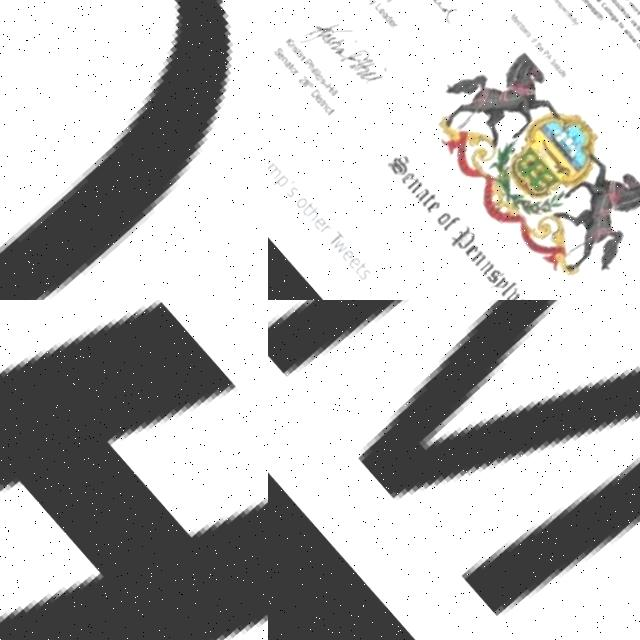0: (0, 0, 268, 300)
2: (295, 76, 306, 87)
8: (299, 80, 311, 91)
A: (410, 188, 429, 208), (378, 13, 390, 23), (281, 61, 291, 71), (589, 13, 598, 23), (620, 18, 629, 27), (543, 58, 552, 67), (555, 73, 562, 80), (592, 2, 600, 8), (620, 34, 627, 40)
B: (517, 28, 526, 37), (605, 0, 614, 8)
C: (598, 6, 607, 15), (322, 107, 330, 116), (561, 14, 569, 22), (614, 11, 621, 17)
D: (307, 90, 318, 101), (382, 17, 392, 27), (631, 47, 640, 56), (383, 0, 394, 6)
E: (396, 172, 415, 190), (337, 250, 355, 268), (423, 203, 440, 220), (460, 247, 477, 264), (307, 217, 324, 234), (344, 258, 360, 274), (274, 53, 284, 63), (385, 21, 394, 31), (375, 10, 384, 19), (606, 16, 614, 25), (551, 2, 559, 11), (611, 23, 619, 31), (587, 11, 595, 19), (559, 11, 567, 19), (559, 77, 567, 85), (519, 31, 527, 39), (550, 66, 558, 74), (511, 22, 519, 30), (536, 51, 544, 59), (633, 16, 640, 23), (635, 35, 640, 44), (637, 53, 640, 62)
F: (438, 217, 459, 237), (530, 42, 538, 50), (565, 17, 573, 24), (617, 0, 625, 4)
G: (607, 19, 616, 29)
H: (0, 300, 268, 640), (302, 207, 321, 225), (321, 84, 333, 96), (305, 64, 315, 74), (533, 47, 542, 56), (306, 84, 315, 93), (595, 20, 604, 28), (634, 32, 640, 38)
I: (312, 71, 322, 81), (308, 66, 318, 76), (288, 44, 299, 53), (294, 51, 304, 60), (321, 104, 330, 112), (313, 94, 321, 102), (327, 89, 335, 96), (627, 24, 633, 30), (363, 0, 373, 3), (638, 21, 640, 29)
K: (281, 38, 292, 49), (617, 12, 624, 19), (613, 0, 622, 2)
L: (494, 283, 515, 300), (372, 5, 383, 16), (308, 69, 317, 77), (569, 21, 576, 29), (570, 22, 577, 30), (328, 90, 336, 97), (312, 72, 320, 79), (624, 37, 631, 44), (623, 36, 630, 43), (592, 17, 599, 24), (330, 92, 337, 99), (595, 4, 602, 9), (605, 15, 611, 20), (603, 15, 609, 20)
M: (268, 300, 640, 640), (268, 162, 280, 182), (508, 17, 517, 26), (515, 25, 523, 34), (625, 7, 633, 15), (574, 0, 582, 5)
N: (472, 260, 494, 283), (465, 252, 487, 274), (402, 180, 424, 201), (277, 57, 287, 68), (295, 54, 304, 64), (580, 3, 589, 12), (627, 26, 635, 34), (552, 69, 560, 77)
O: (431, 213, 451, 233), (291, 197, 307, 212), (287, 68, 296, 78), (619, 0, 628, 9), (611, 7, 619, 16), (616, 29, 624, 38), (608, 4, 616, 12), (625, 39, 633, 47), (600, 11, 608, 19), (578, 1, 586, 9), (629, 11, 636, 19), (528, 41, 535, 47), (587, 0, 595, 3)
P: (443, 227, 476, 260), (270, 175, 288, 193), (311, 75, 322, 86), (301, 59, 312, 69), (540, 54, 549, 64), (555, 8, 564, 17)
R: (316, 225, 331, 240), (389, 24, 398, 34), (286, 43, 295, 52), (290, 71, 298, 78), (623, 22, 630, 29), (591, 0, 598, 7), (549, 1, 556, 8), (318, 104, 326, 110), (622, 3, 629, 9), (522, 35, 529, 41), (633, 15, 638, 20), (362, 0, 371, 2)
S: (382, 153, 412, 185), (481, 269, 503, 292), (281, 186, 298, 201), (354, 270, 370, 285), (270, 47, 282, 60), (317, 79, 327, 89), (547, 62, 556, 72), (289, 47, 298, 57), (312, 98, 322, 107), (524, 37, 531, 44), (554, 7, 562, 13)
T: (322, 230, 343, 251), (417, 195, 437, 214), (296, 202, 313, 219), (349, 264, 366, 279), (285, 63, 295, 72), (292, 51, 301, 59), (325, 109, 334, 117), (316, 100, 325, 108), (614, 26, 622, 34), (305, 82, 313, 90), (564, 16, 571, 24), (557, 74, 565, 81), (364, 0, 373, 6), (593, 18, 600, 25), (532, 45, 539, 52), (632, 31, 639, 37), (637, 19, 640, 26)
U: (566, 21, 573, 27), (635, 51, 640, 59)
V: (500, 289, 521, 300), (618, 15, 626, 24)
W: (327, 238, 348, 260), (628, 43, 636, 51), (584, 8, 592, 16)
Y: (485, 278, 507, 300), (364, 0, 376, 12), (569, 25, 577, 32), (546, 0, 553, 4)
